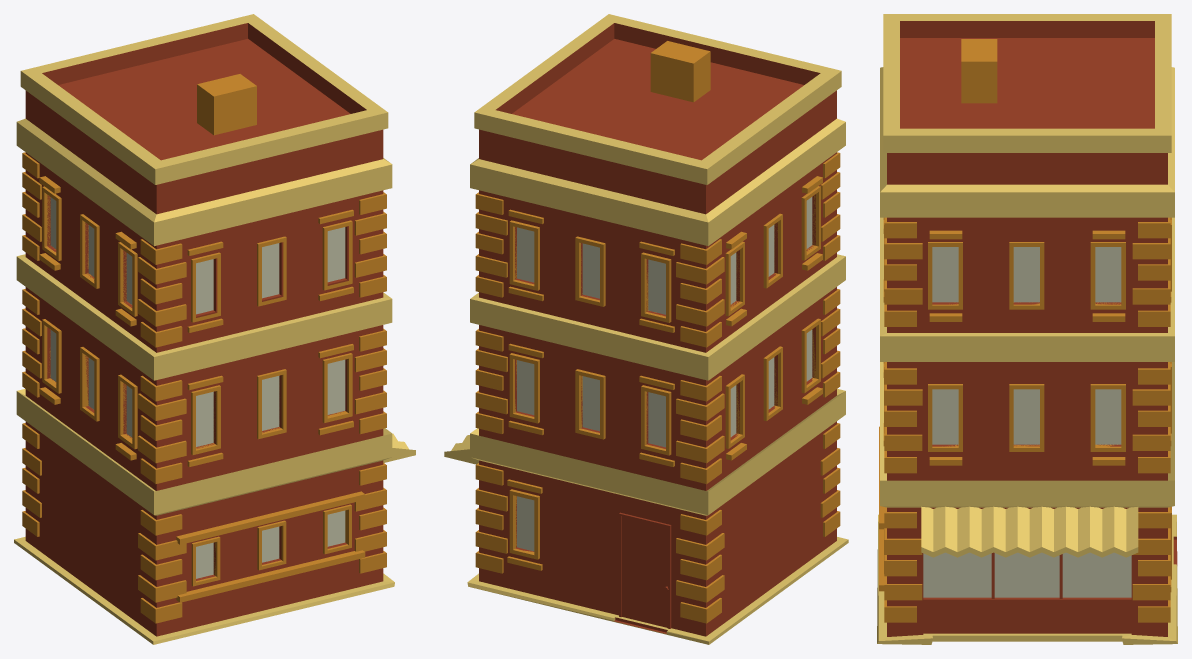
Rendered from building_1.fbx.
The picture shows the model from 3 angles, left to right: view 1: azimuth 30°, elevation 25°; view 2: azimuth 150°, elevation 25°; view 3: azimuth 270°, elevation 25°; orthographic projection. The views are drawn at different scales.
Visible parts, largest first — view 1: building_1; view 2: building_1; view 3: building_1.
Part boxes in pixels (box(x1,y1,x2,y2)): building_1: box(14, 14, 415, 644); building_1: box(444, 14, 848, 644); building_1: box(877, 14, 1177, 644).
Bounding box in the file's own units: 7.47 × 12.59 × 6.43.
